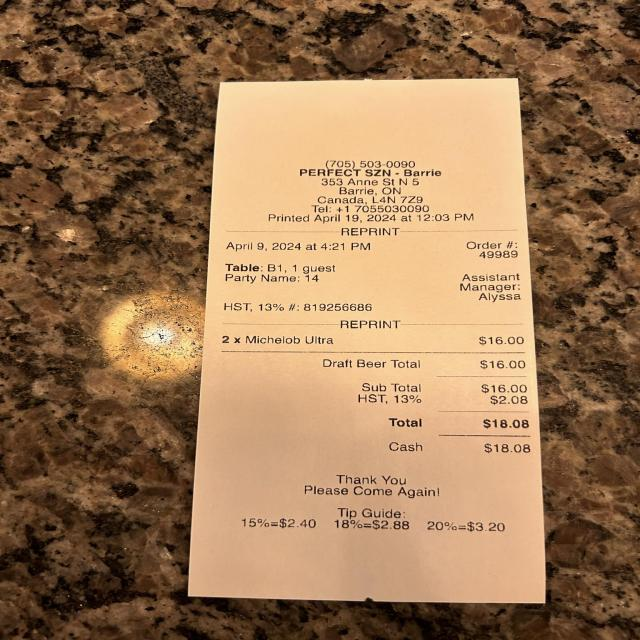item: (243, 331, 529, 350)
store_name: (294, 165, 448, 181)
total_amount: (383, 414, 534, 433)
transaction_date: (222, 238, 304, 254)
